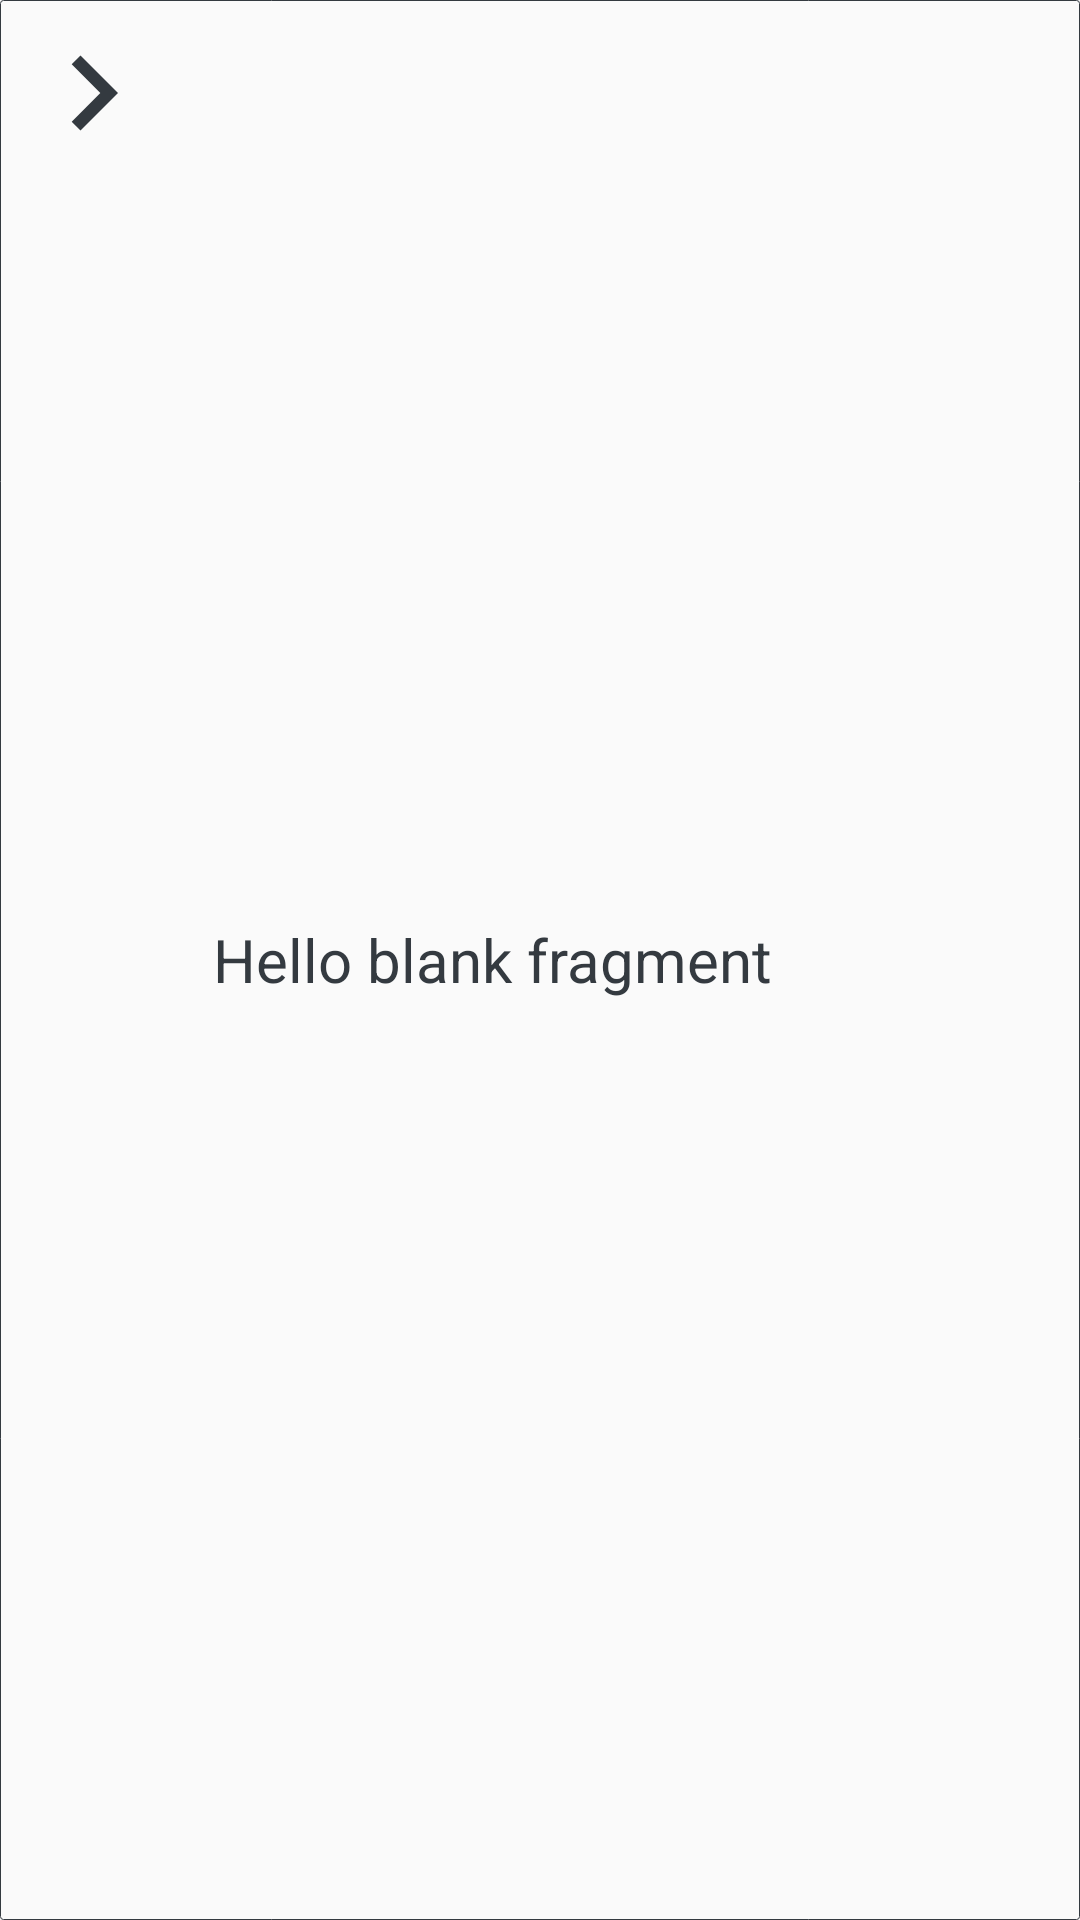

Icons on this 1080px x 1920px Android screen, each with its box as (x1,y1,x2,y2):
right: (72,55,118,131)
